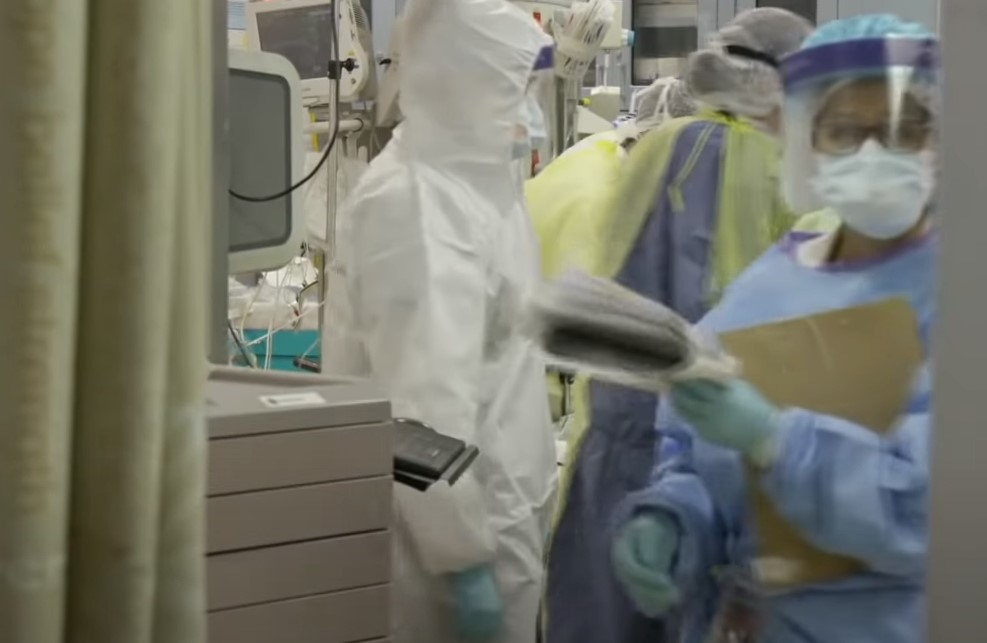face_with_mask: (772, 10, 941, 245), (505, 37, 563, 175)
